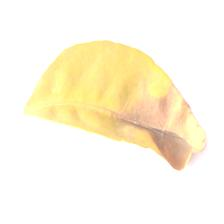black spot: (104, 91, 195, 178)
